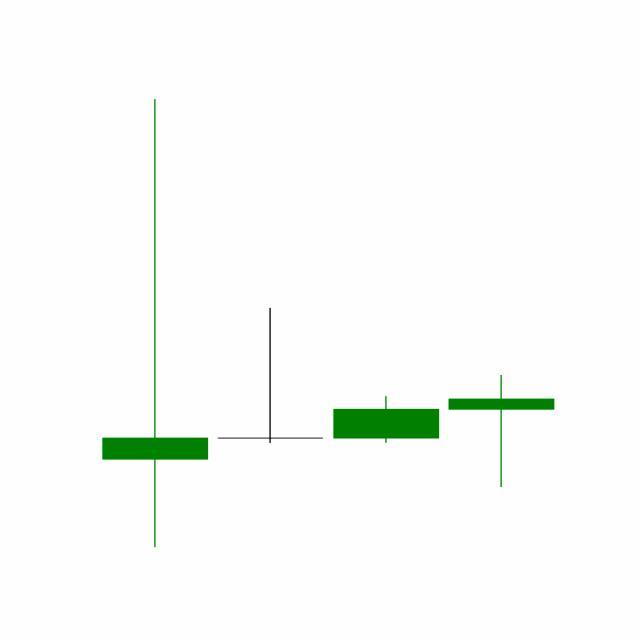Hanging Man: (444, 375, 560, 490)
